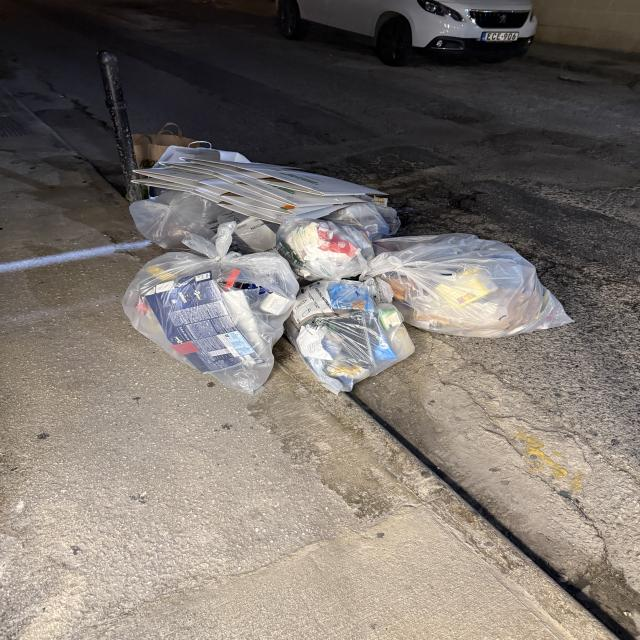Recyclable Material -Grey Bags-: (120, 191, 575, 393)
